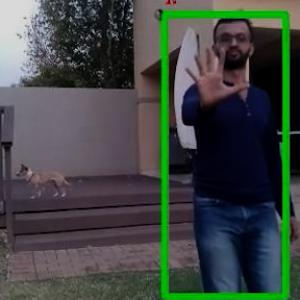follow_hand: (175, 39, 251, 110)
